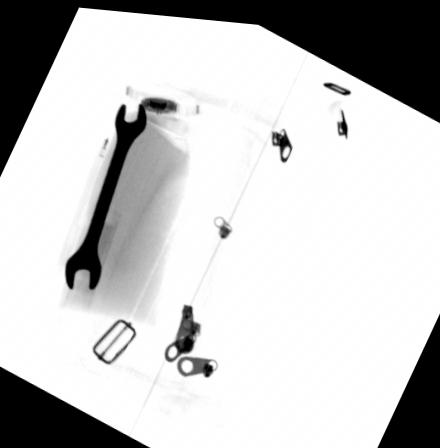Wrench: (62, 99, 147, 291)
